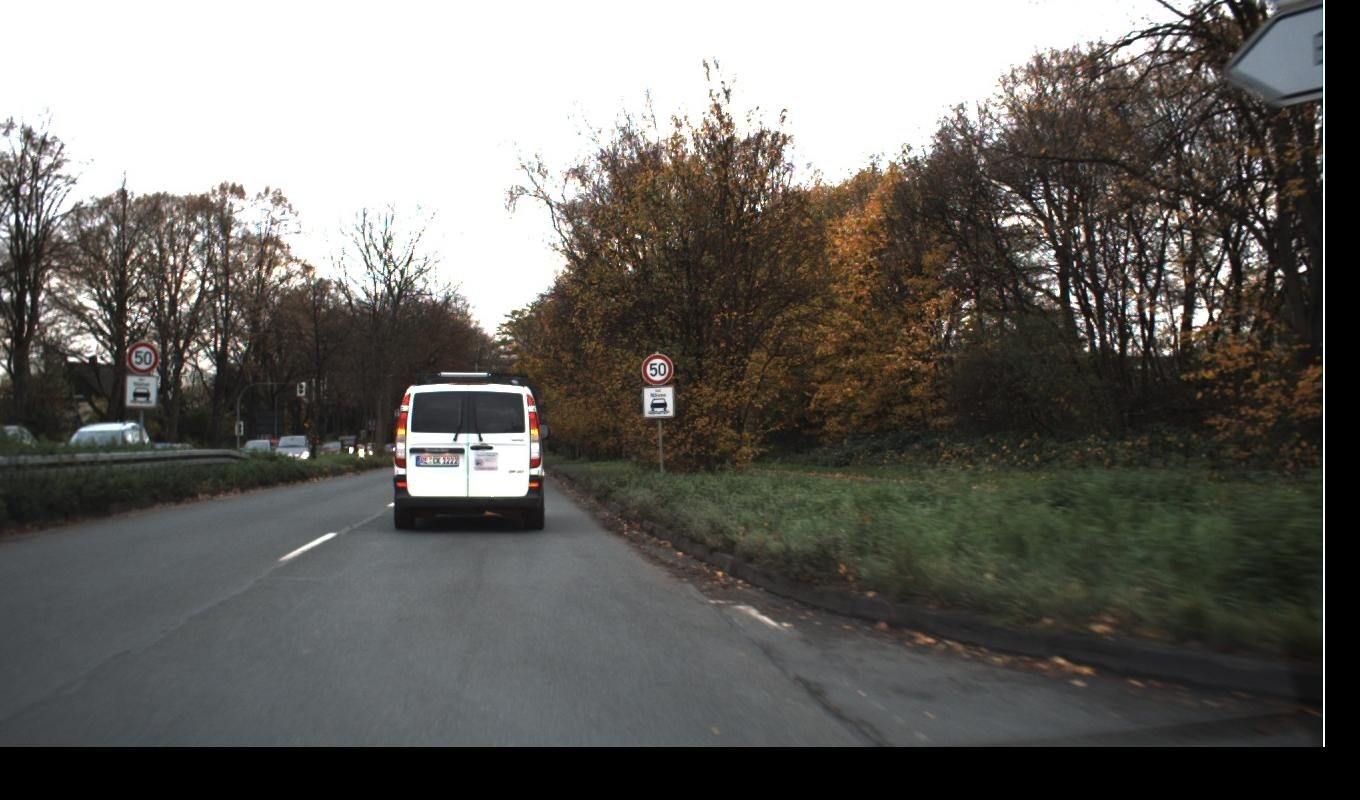speed limit 50: (126, 340, 674, 386)
